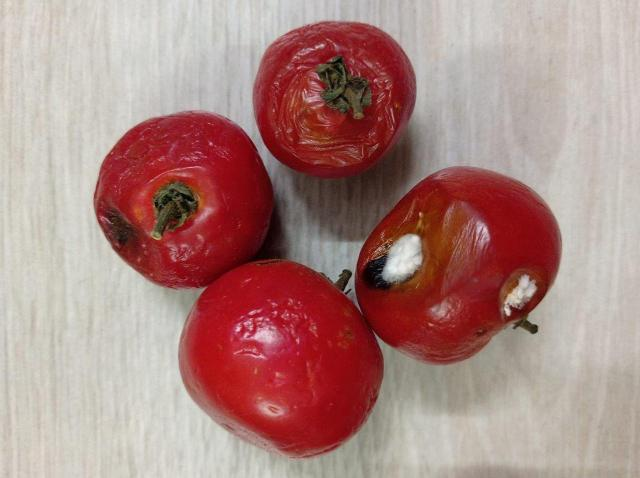defect: (350, 162, 566, 369), (91, 106, 278, 290), (252, 16, 418, 180)
